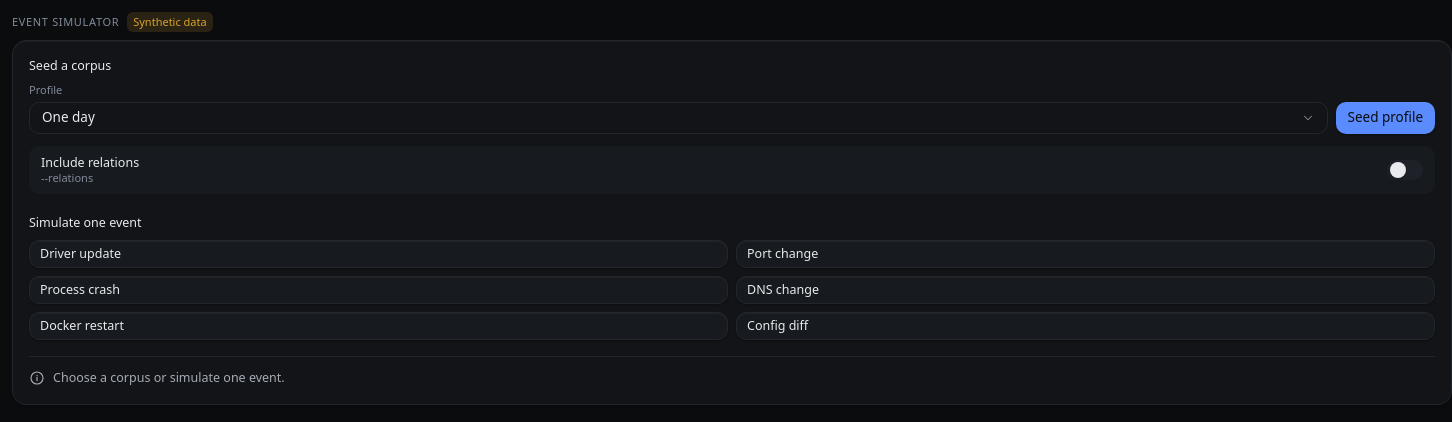
Test case: DevSimulationPanel › uses the backend kind and never renders a rejected internal value
Step 1. Click the button "DNS change" → x=783, y=289, box [736, 276, 1435, 304]
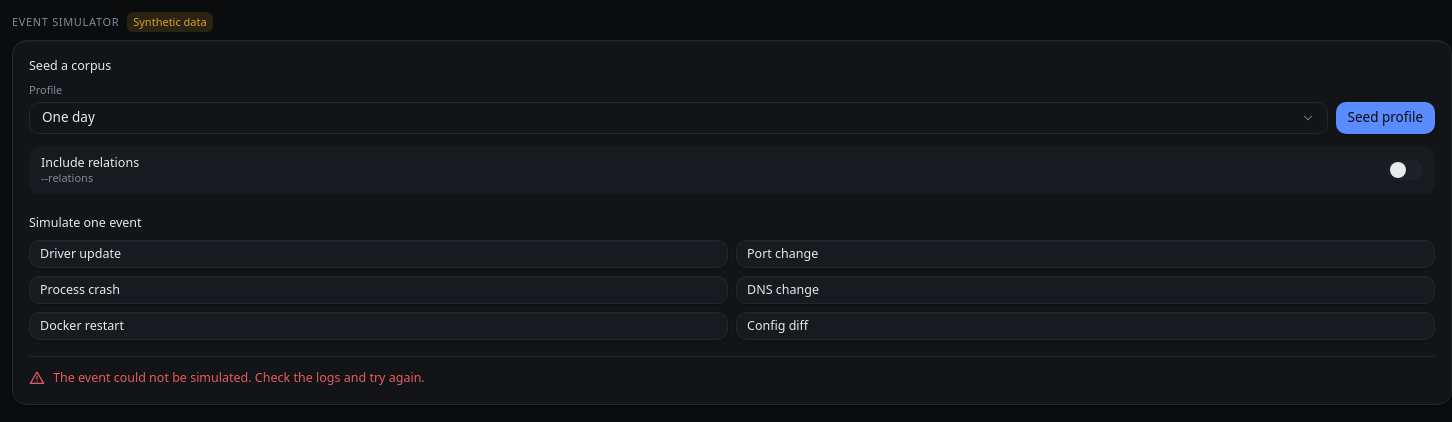
Check: the message reads "The event could not be simulated. Check the logs and try again.", box [53, 369, 425, 386]
